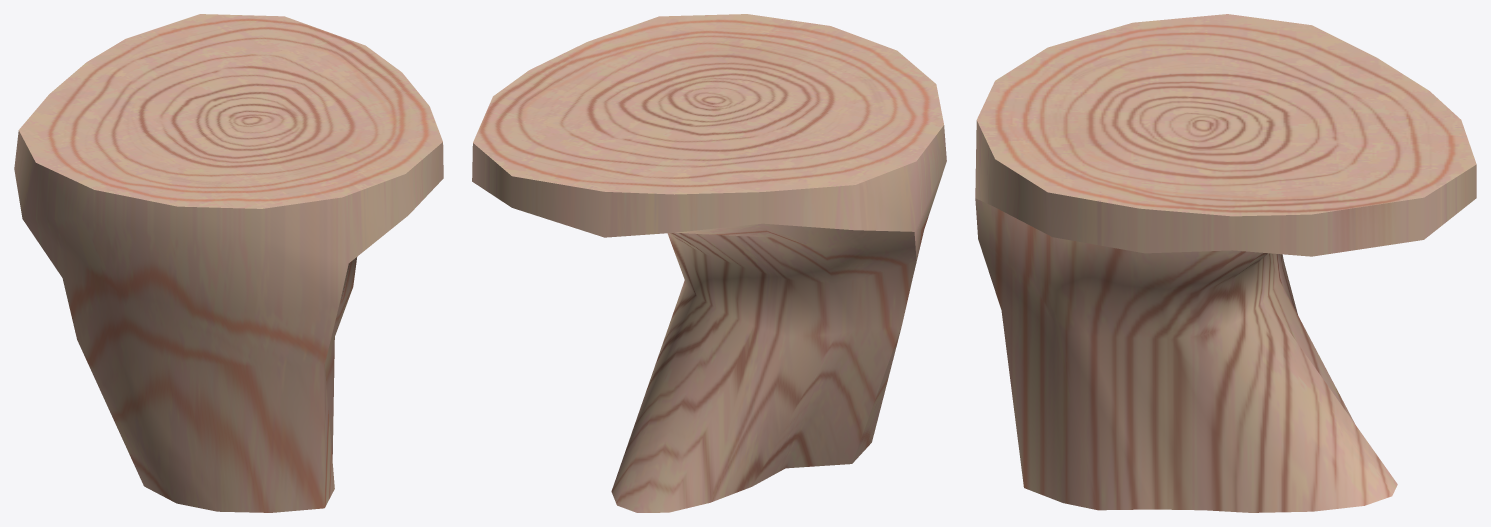
Rendered from stump_table.glb.
3 renders of one model, left to right at view 1: azimuth 30°, elevation 25°; view 2: azimuth 150°, elevation 25°; view 3: azimuth 270°, elevation 25°, orthographic. The views are drawn at different scales.
Parts seen in each view (by area): view 1: stump_table-col; view 2: stump_table-col; view 3: stump_table-col.
Boxes of the visible parts, <box> form: stump_table-col: <box>14,14,443,512</box>; stump_table-col: <box>472,14,946,512</box>; stump_table-col: <box>975,14,1476,512</box>.
Size of the model in its own units: 1.2 by 1 by 1.24.
Materials: 1 (1 with a texture image).
